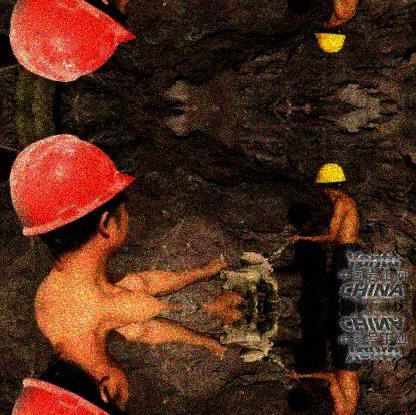helmet: (7, 133, 138, 258), (314, 163, 346, 199)
